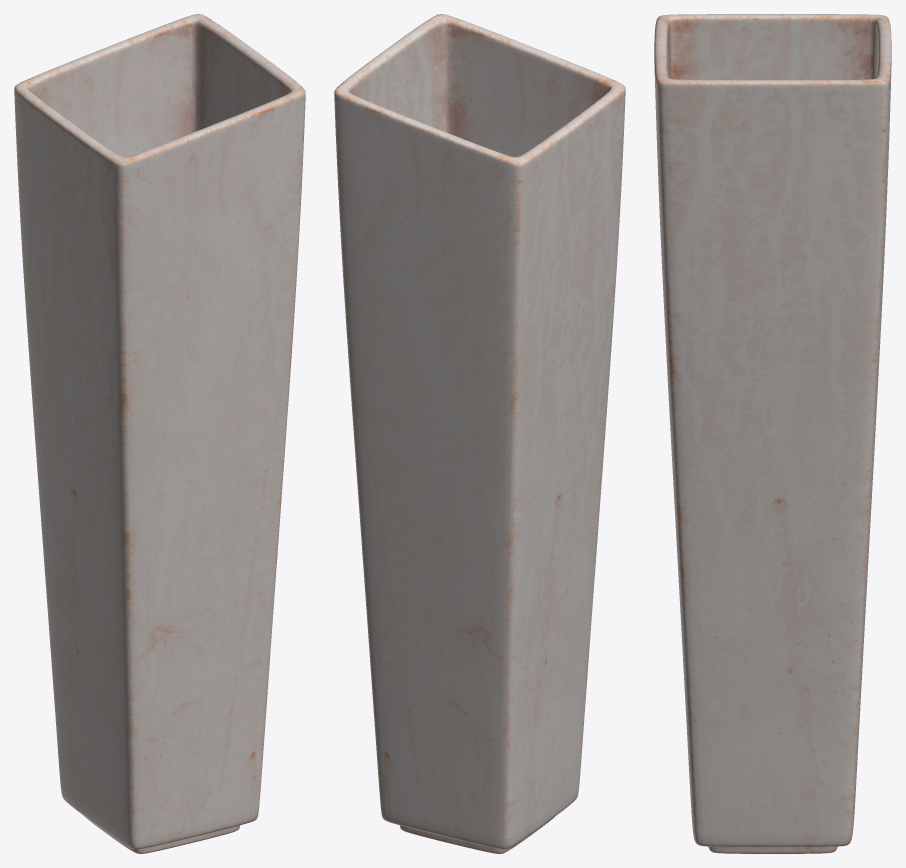
Rendered from ceramic_vase_03_4k-v2.glb.
The picture shows the model from 3 angles, left to right: view 1: azimuth 30°, elevation 25°; view 2: azimuth 150°, elevation 25°; view 3: azimuth 270°, elevation 25°; orthographic projection. The views are drawn at different scales.
Visible parts, largest first — view 1: ceramic_vase_03; view 2: ceramic_vase_03; view 3: ceramic_vase_03.
Boxes of the visible parts, x1,y1,x2,y2 form: ceramic_vase_03: [14, 14, 305, 853]; ceramic_vase_03: [334, 14, 625, 853]; ceramic_vase_03: [654, 14, 891, 853].
Bounding box in the file's own units: 0.1122 × 0.4144 × 0.1122.
1 material, 1 textured.
